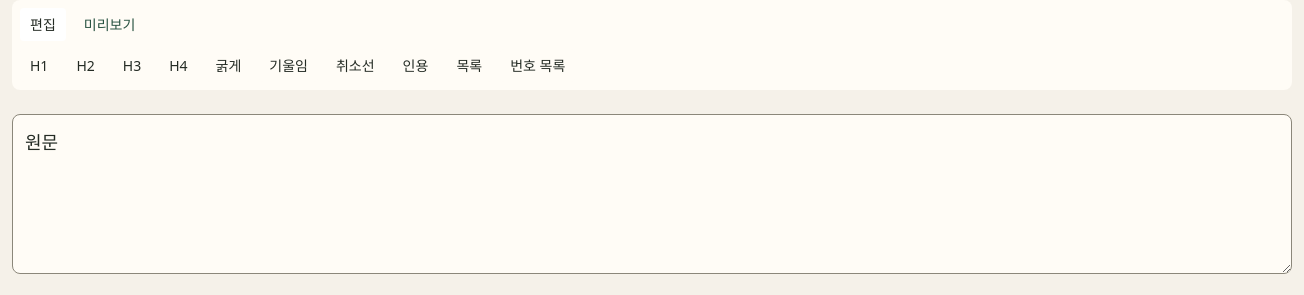
Test: 서식 수정과 미리보기 전환 뒤에도 폼에는 마크다운 원문을 제출한다
Click the button "굵게" at (228, 66), box [206,49,251,82]
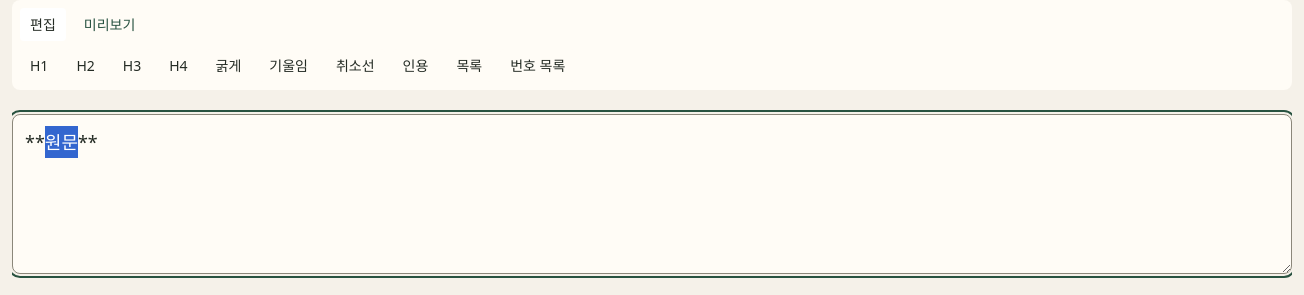
Expected: the text box named "내용" holds "**원문**", [12,114,1292,274]
Click the button "미리보기" at (110, 25), box [74,8,145,41]
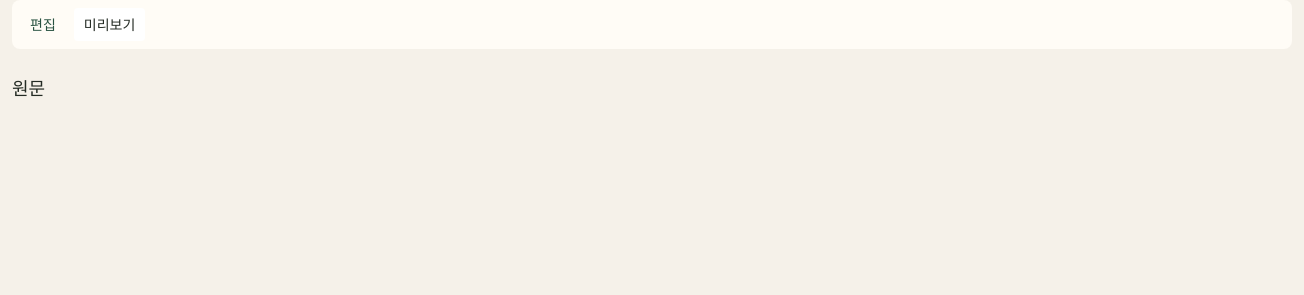
Expected: the text "원문" is shown, [12,76,45,100]
